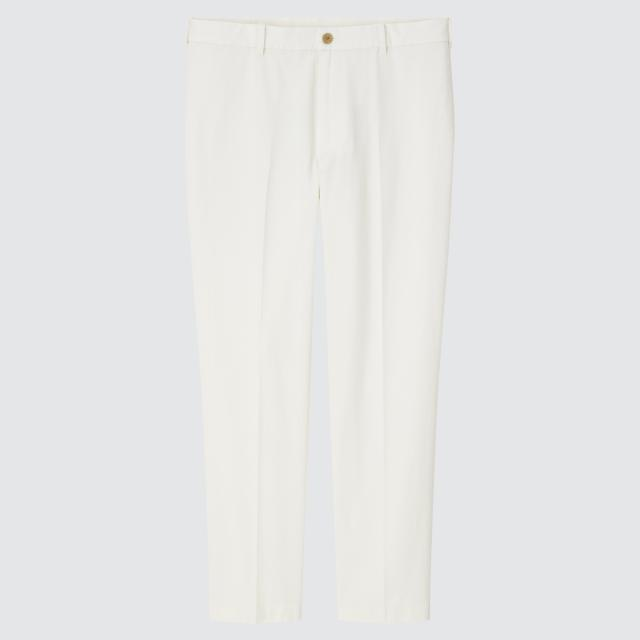long-pants: (185, 17, 456, 638)
